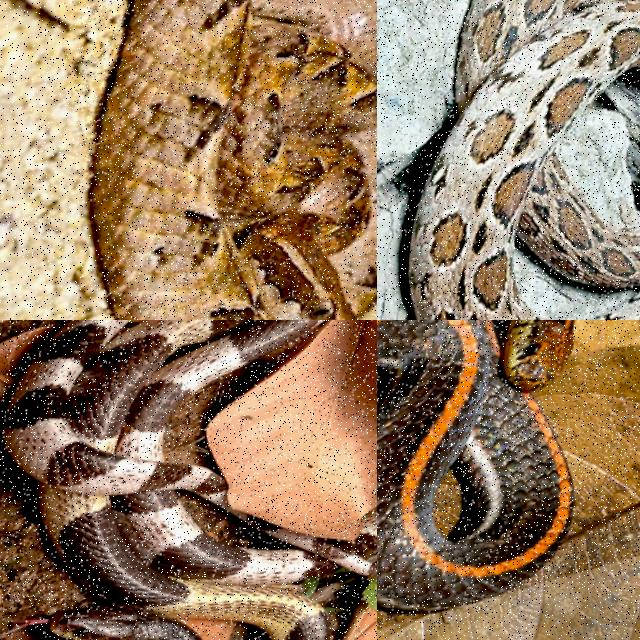Bungarus candidus: (4, 320, 376, 639)
Calliophis intestinalis: (377, 320, 572, 611)
Calloselasma rhodostoma: (90, 0, 376, 319)
Daboia siamensis: (409, 0, 639, 319)
